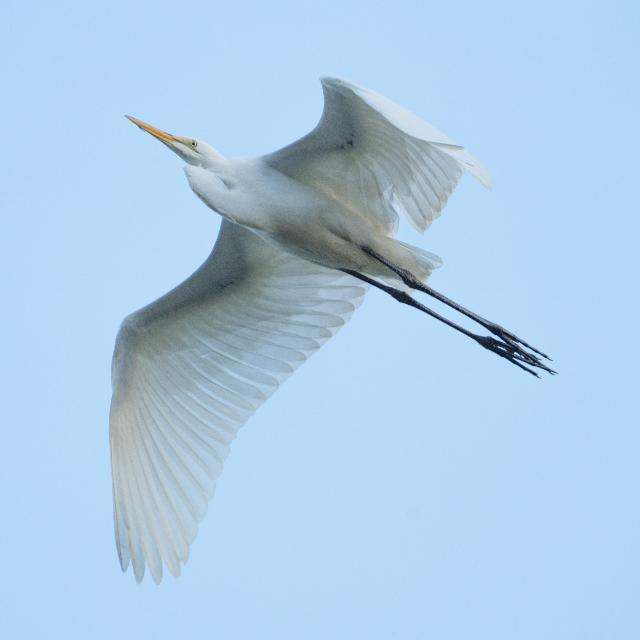egret: (105, 76, 551, 574)
